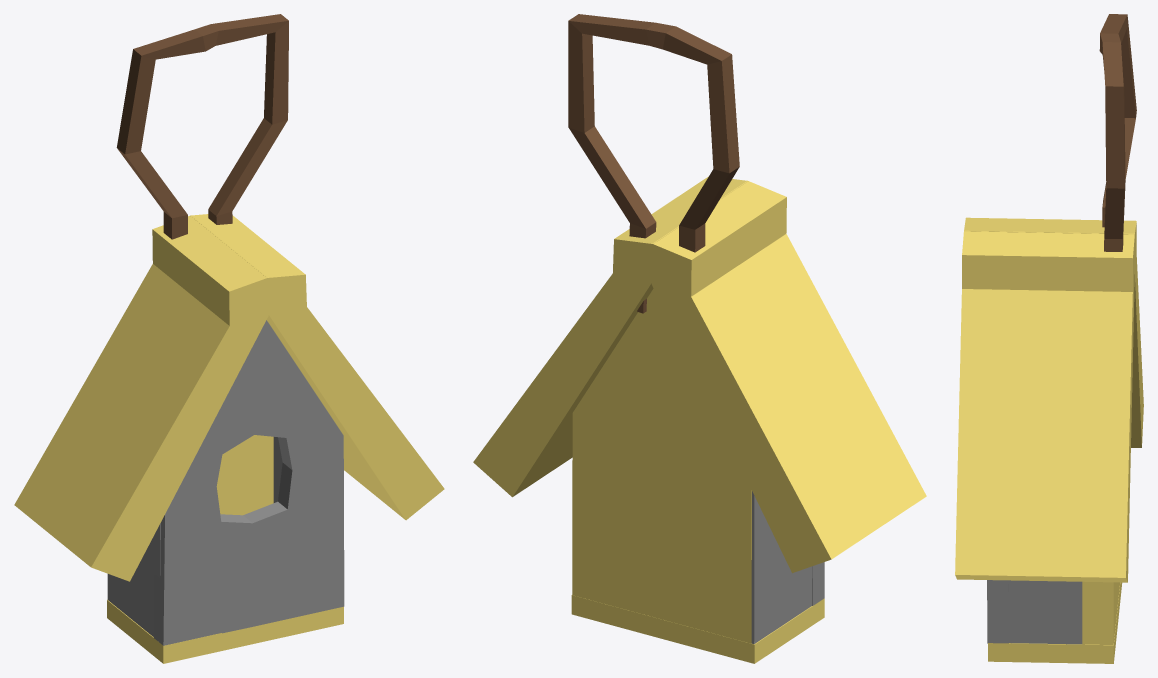
File: Feeder_1.fbx
The picture shows the model from 3 angles, left to right: view 1: azimuth 30°, elevation 25°; view 2: azimuth 150°, elevation 25°; view 3: azimuth 270°, elevation 25°; orthographic projection. The views are drawn at different scales.
Parts seen in each view (by area): view 1: Feeder_1; view 2: Feeder_1; view 3: Feeder_1.
Boxes of the visible parts, x1,y1,x2,y2 form: Feeder_1: (14, 14, 444, 663); Feeder_1: (473, 14, 926, 663); Feeder_1: (955, 14, 1143, 663).
Size of the model in its own units: 39.99 by 18.11 by 61.94.
